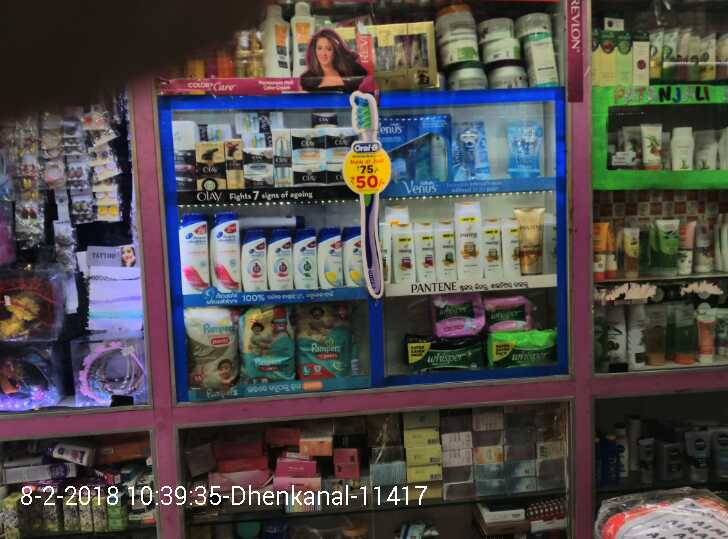venus: (385, 112, 453, 180), (453, 112, 492, 177), (507, 121, 542, 176)
